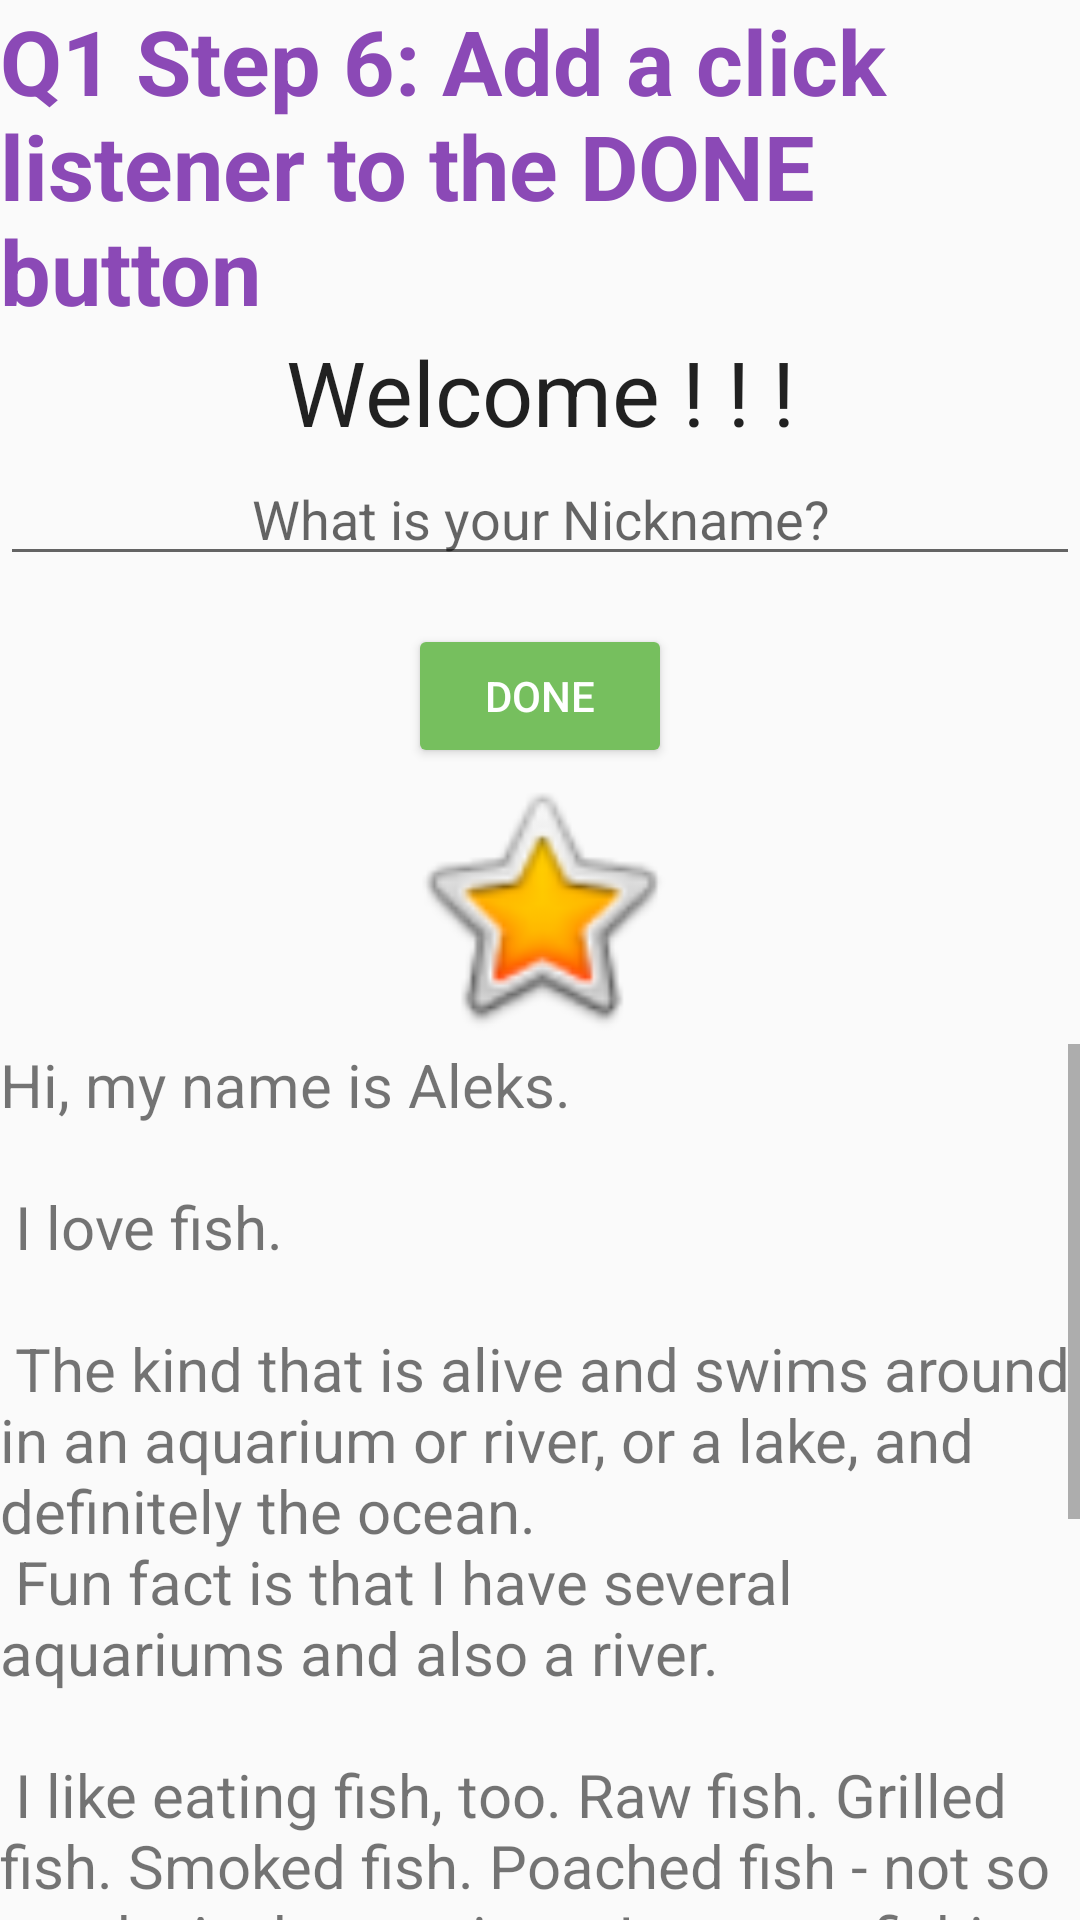

Where to tap for icons on this 1080 x 1920 app screen, as [x,y]:
star on: [542,908]
